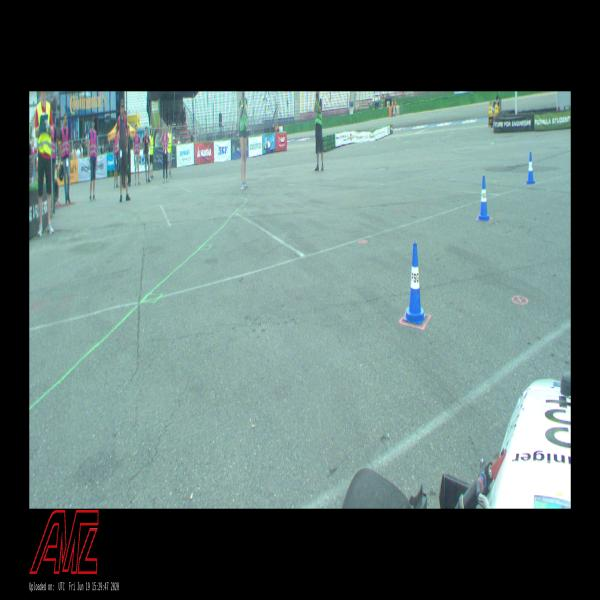blue_cone: (403, 242, 426, 324), (478, 176, 490, 221), (526, 152, 534, 183)
